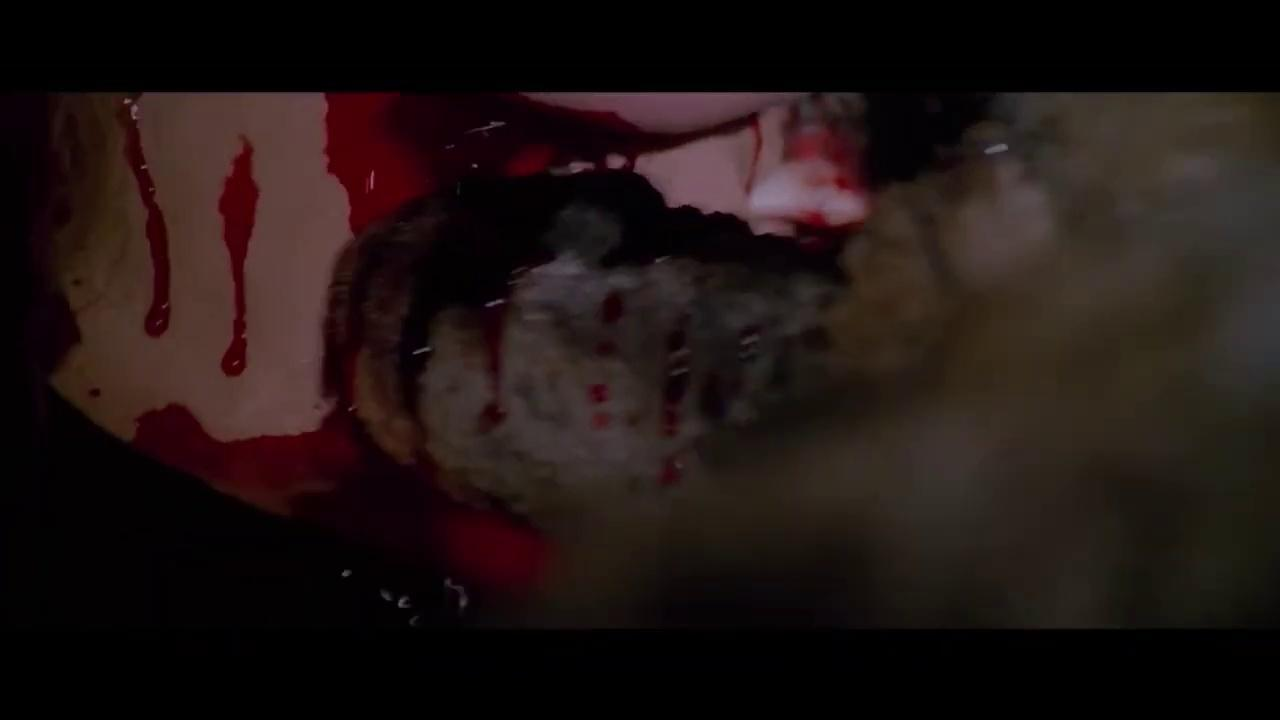Fire: (131, 93, 871, 588), (40, 96, 259, 374)
